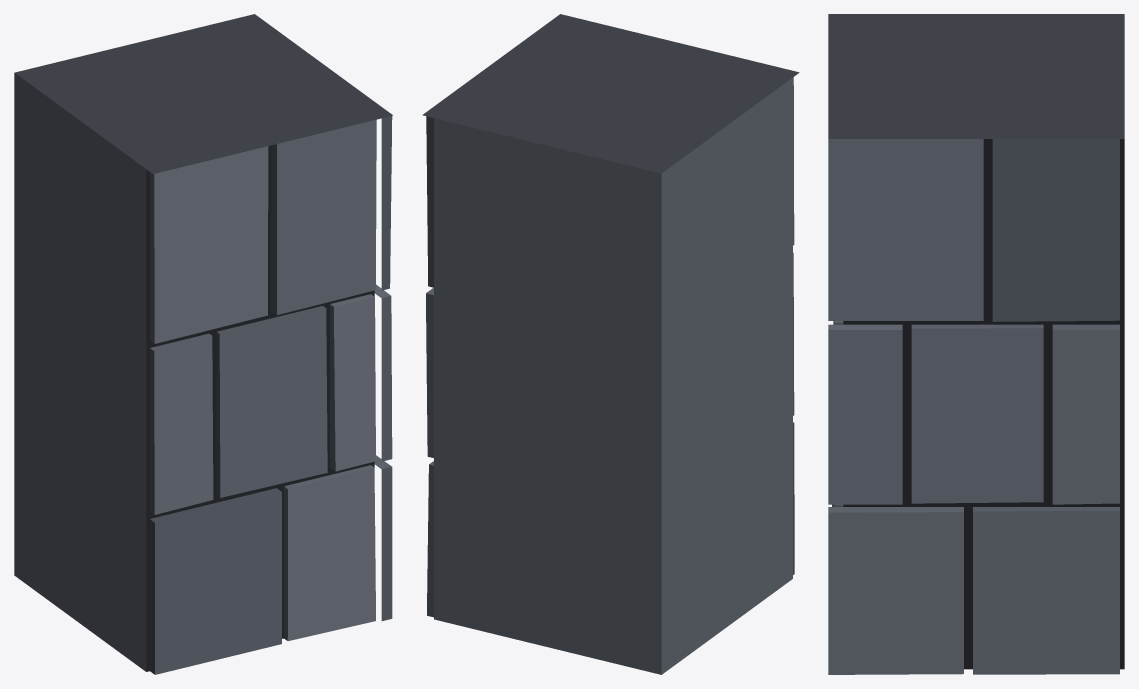
File: tile_wall_5.glb
The picture shows the model from 3 angles, left to right: view 1: azimuth 30°, elevation 25°; view 2: azimuth 150°, elevation 25°; view 3: azimuth 270°, elevation 25°; orthographic projection. The views are drawn at different scales.
Parts seen in each view (by area): view 1: tile_wall_5; view 2: tile_wall_5; view 3: tile_wall_5.
Part boxes in pixels (x1=…): tile_wall_5: x1=14, y1=14, x2=392, y2=674; tile_wall_5: x1=422, y1=14, x2=799, y2=674; tile_wall_5: x1=828, y1=14, x2=1124, y2=674.
Size of the model in its own units: 1 by 2 by 1.
